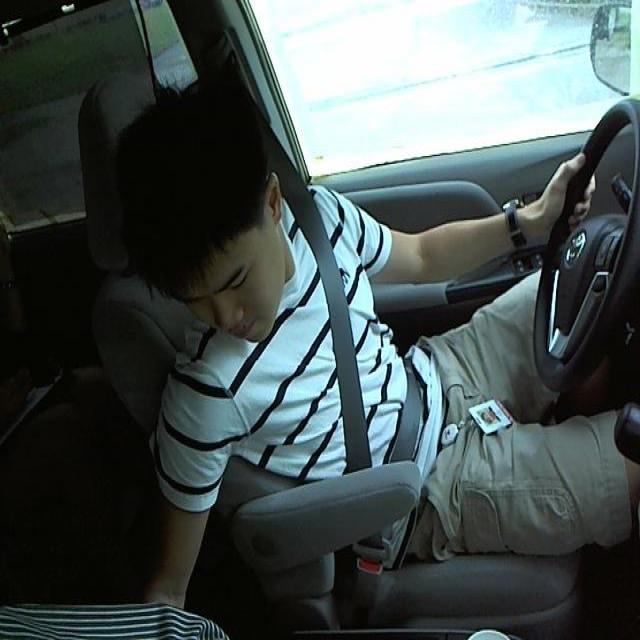seatbelt: (310, 223, 439, 476)
